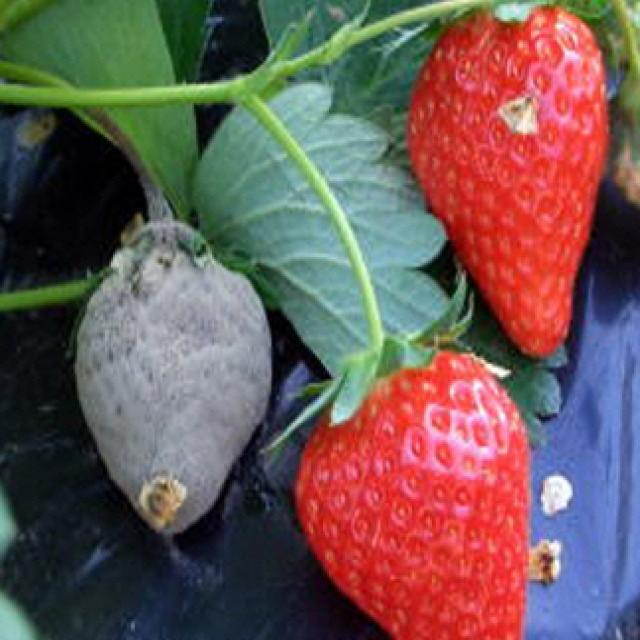Gray Mold: (74, 223, 275, 536)
